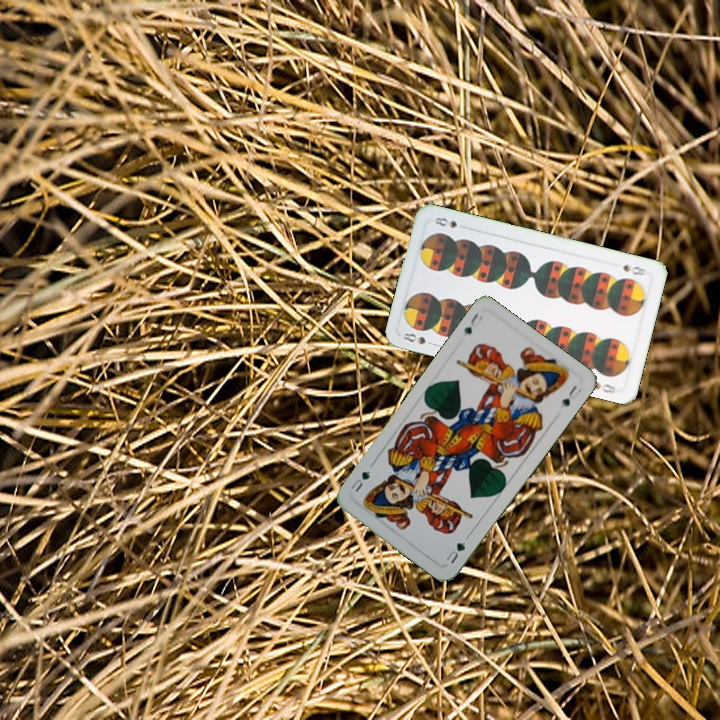GU: (441, 538, 468, 566), (459, 309, 485, 337)
S8: (399, 329, 439, 348), (619, 260, 649, 278)
